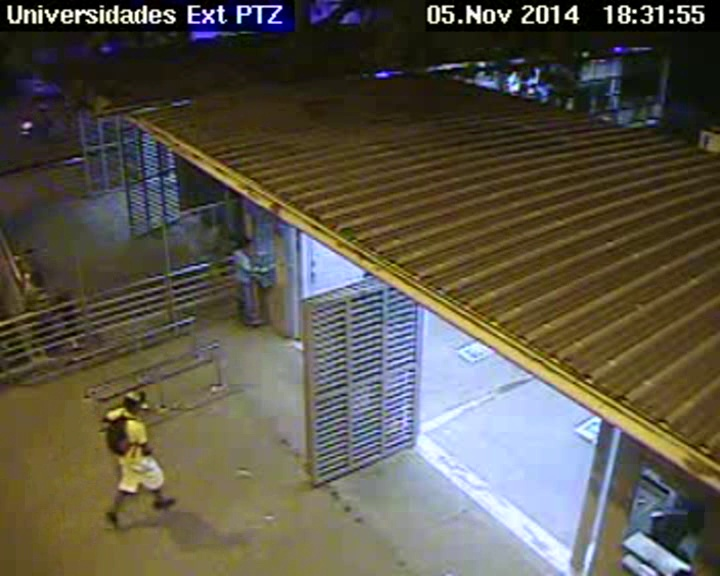person: (116, 387, 149, 416), (236, 233, 254, 252), (29, 272, 46, 288), (23, 250, 37, 263), (16, 261, 29, 272)
